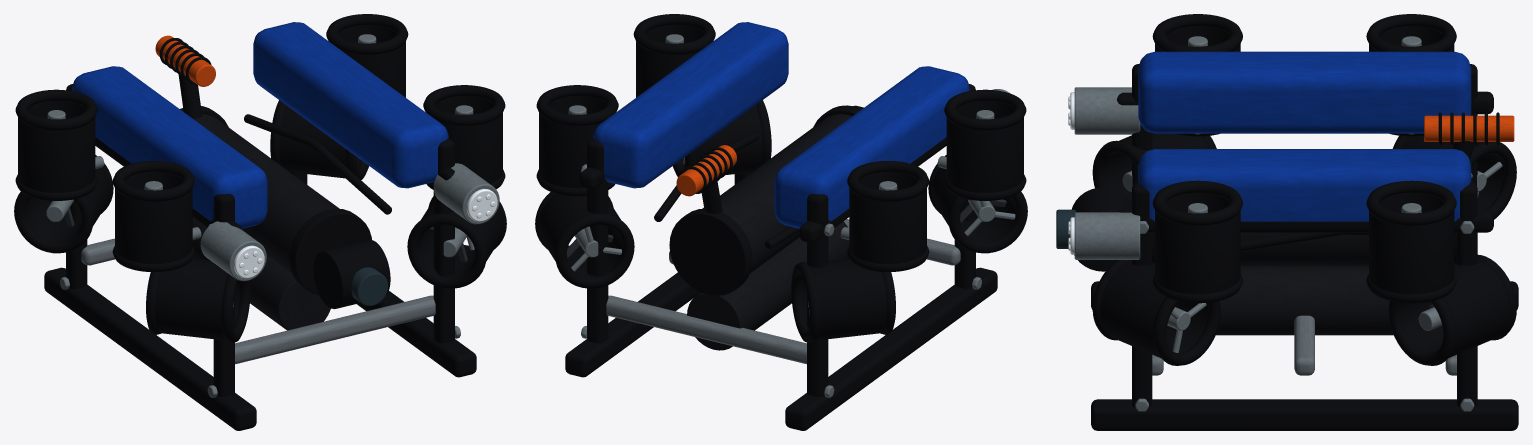
The model's file is bluerov2_heavy.glb.
3 renders of one model, left to right at view 1: azimuth 30°, elevation 25°; view 2: azimuth 150°, elevation 25°; view 3: azimuth 270°, elevation 25°, orthographic. The views are drawn at different scales.
Parts seen in each view (by area): view 1: Buoyancy shoulder, Buoyancy shoulder.001, Skid rail.001, T8 open duct, T6 open duct, Electronics pressure housing, T2 open duct, Deck cross member.002, Battery housing, T5 open duct, Pressure end cap.001, Camera gimbal (+30 smaller); view 2: Buoyancy shoulder, Buoyancy shoulder.001, Skid rail.001, Battery housing, T6 open duct, T8 open duct, Pressure end cap, Electronics pressure housing, T4 open duct, Deck cross member, T7 open duct, Skid rail (+23 smaller); view 3: Buoyancy shoulder.001, Buoyancy shoulder, Skid rail, Battery housing, T7 open duct, T5 open duct, T3 open duct, T1 open duct, Electronics pressure housing, LED housing 0, LED housing 1, Frame upright (+25 smaller).
Part boxes in pixels (<box>): Buoyancy shoulder: <box>253,22,448,188</box>; Buoyancy shoulder.001: <box>72,66,267,228</box>; Skid rail.001: <box>44,267,256,430</box>; T8 open duct: <box>18,100,95,192</box>; T6 open duct: <box>115,171,192,263</box>; Electronics pressure housing: <box>193,114,339,273</box>; T2 open duct: <box>155,258,240,340</box>; Deck cross member.002: <box>235,295,435,364</box>; Battery housing: <box>192,217,330,330</box>; T5 open duct: <box>435,96,502,183</box>; Pressure end cap.001: <box>289,208,371,295</box>; Camera gimbal: <box>313,239,390,309</box>; Buoyancy shoulder: <box>593,22,788,188</box>; Buoyancy shoulder.001: <box>774,66,969,228</box>; Skid rail.001: <box>785,267,997,430</box>; Battery housing: <box>687,221,849,350</box>; T6 open duct: <box>946,100,1023,192</box>; T8 open duct: <box>849,171,926,263</box>; Pressure end cap: <box>669,208,752,295</box>; Electronics pressure housing: <box>702,114,851,273</box>; T4 open duct: <box>801,258,886,340</box>; Deck cross member: <box>606,295,806,364</box>; T7 open duct: <box>539,96,606,188</box>; Skid rail: <box>565,272,700,377</box>; Buoyancy shoulder.001: <box>1138,51,1471,133</box>; Buoyancy shoulder: <box>1138,149,1471,221</box>; Skid rail: <box>1091,399,1518,430</box>; Battery housing: <box>1216,266,1393,335</box>; T7 open duct: <box>1369,192,1454,294</box>; T5 open duct: <box>1155,192,1240,294</box>; T3 open duct: <box>1401,259,1509,358</box>; T1 open duct: <box>1099,260,1207,357</box>; Electronics pressure housing: <box>1240,232,1368,266</box>; LED housing 0: <box>1074,212,1140,259</box>; LED housing 1: <box>1074,87,1140,134</box>; Frame upright: <box>1457,182,1477,407</box>.
Size of the model in its own units: 0.59 by 0.3468 by 0.562.
10 materials, 8 textured.
